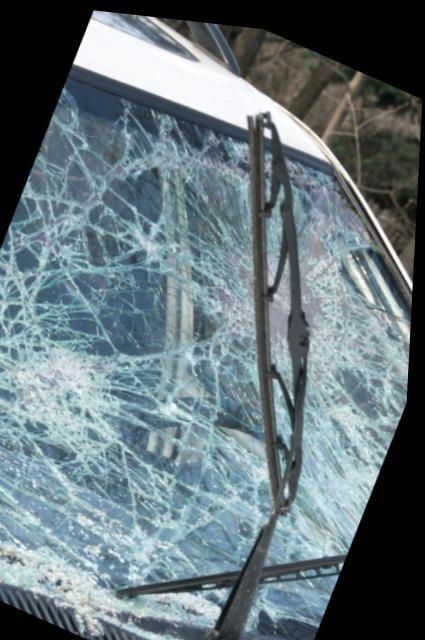glass shatter: (0, 76, 415, 638)
